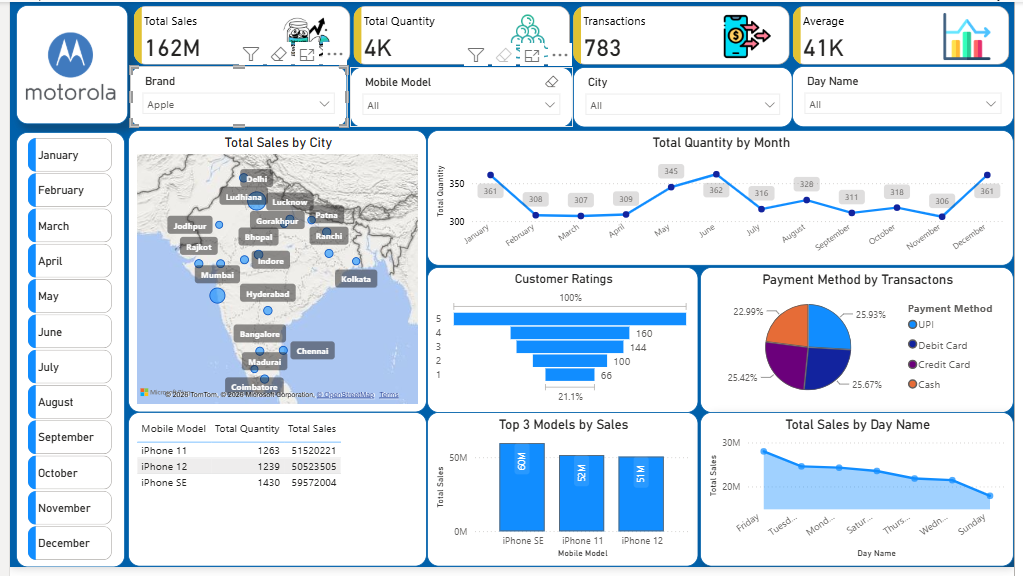

The page's visual inventory and layout, read from the dashboard file:
{"tool":"powerbi","page":{"name":"Duplicate of Page 1","canvas":[1280,720],"ordinal":0},"visuals":[{"type":"shape","box":[7.2,4.3,143.5,152.2],"z":0},{"type":"shape","box":[7.2,165.2,139.1,555.1],"z":1000},{"type":"advancedSlicerVisual","fields":{"Values":["Mobile_sales_data.Date.Variation.Date Hierarchy.Month"]},"box":[17.6,168.9,117.6,548.6],"z":2000},{"type":"cardVisual","fields":{"Data":["Mobile_sales_data.Total Sales","Mobile_sales_data.Total Quantity","Mobile_sales_data.Transactions","Mobile_sales_data.Average"]},"box":[153.6,0,1126.1,85.5],"z":3000},{"type":"map","fields":{"Category":["Mobile_sales_data.City"],"Size":["Mobile_sales_data.Total Sales"]},"box":[150.4,163.2,381.2,359.5],"z":4000},{"type":"lineChart","fields":{"Y":["Mobile_sales_data.Total Quantity"],"Category":["Mobile_sales_data.Date.Variation.Date Hierarchy.Month","Mobile_sales_data.Date.Variation.Date Hierarchy.Day"]},"box":[531.6,163.2,748.4,173.4],"z":5000},{"type":"clusteredColumnChart","title":"Top 3 Models by Sales","fields":{"Category":["Mobile_sales_data.Mobile Model"],"Y":["Mobile_sales_data.Total Sales"]},"box":[531.9,523.2,346.4,197.1],"z":6000},{"type":"pieChart","title":"Payment Method by Transactons","fields":{"Y":["Mobile_sales_data.Transactions"],"Category":["Mobile_sales_data.Payment Method"]},"box":[879.7,337.7,400,185.5],"z":7000},{"type":"funnel","title":"Customer Ratings","fields":{"Y":["CountNonNull(Mobile_sales_data.Customer Ratings)"],"Category":["Mobile_sales_data.Customer Ratings"]},"box":[531.9,337.7,346.4,185.5],"z":8000},{"type":"areaChart","fields":{"Y":["Mobile_sales_data.Total Sales"],"Category":["Mobile_sales_data.Day Name"]},"box":[879.7,523.2,400,197.1],"z":9000},{"type":"tableEx","fields":{"Values":["Mobile_sales_data.Mobile Model","Mobile_sales_data.Total Quantity","Mobile_sales_data.Total Sales"]},"box":[150.7,523.2,381.2,197.1],"z":10000},{"type":"slicer","fields":{"Values":["Mobile_sales_data.Mobile Model"]},"box":[433.3,82.6,284.1,76.8],"z":11000},{"type":"slicer","fields":{"Values":["Mobile_sales_data.Brand"]},"box":[153.6,81.2,276.8,78.3],"z":12000},{"type":"slicer","fields":{"Values":["Mobile_sales_data.City"]},"box":[717.4,82.6,279.7,76.8],"z":13000},{"type":"slicer","fields":{"Values":["Mobile_sales_data.Day Name"]},"box":[997.1,81.2,282.6,78.3],"z":14000},{"type":"image","box":[14.9,17.6,124.3,127],"z":15000}]}

Visuals, with their boxes in screenshot pixels (x1, y1, x2, y2), scaled from the page's 1280x720 canvas onto the 1023x576 screenshot:
shape: pyautogui.locateOnScreen(6, 3, 120, 125)
shape: pyautogui.locateOnScreen(6, 132, 117, 575)
advancedSlicerVisual - Mobile_sales_data.Date.Variation.Date Hierarchy.Month: pyautogui.locateOnScreen(14, 135, 108, 574)
cardVisual - Mobile_sales_data.Total Sales x Mobile_sales_data.Total Quantity: pyautogui.locateOnScreen(123, 0, 1022, 68)
map - Mobile_sales_data.City x Mobile_sales_data.Total Sales: pyautogui.locateOnScreen(120, 131, 425, 418)
lineChart - Mobile_sales_data.Total Quantity x Mobile_sales_data.Date.Variation.Date Hierarchy.Month: pyautogui.locateOnScreen(425, 131, 1022, 269)
"Top 3 Models by Sales" clusteredColumnChart: pyautogui.locateOnScreen(425, 419, 702, 575)
"Payment Method by Transactons" pieChart: pyautogui.locateOnScreen(703, 270, 1022, 419)
"Customer Ratings" funnel: pyautogui.locateOnScreen(425, 270, 702, 419)
areaChart - Mobile_sales_data.Total Sales x Mobile_sales_data.Day Name: pyautogui.locateOnScreen(703, 419, 1022, 575)
tableEx - Mobile_sales_data.Mobile Model x Mobile_sales_data.Total Quantity: pyautogui.locateOnScreen(120, 419, 425, 575)
slicer - Mobile_sales_data.Mobile Model: pyautogui.locateOnScreen(346, 66, 573, 128)
slicer - Mobile_sales_data.Brand: pyautogui.locateOnScreen(123, 65, 344, 128)
slicer - Mobile_sales_data.City: pyautogui.locateOnScreen(573, 66, 797, 128)
slicer - Mobile_sales_data.Day Name: pyautogui.locateOnScreen(797, 65, 1022, 128)
image: pyautogui.locateOnScreen(12, 14, 111, 116)
